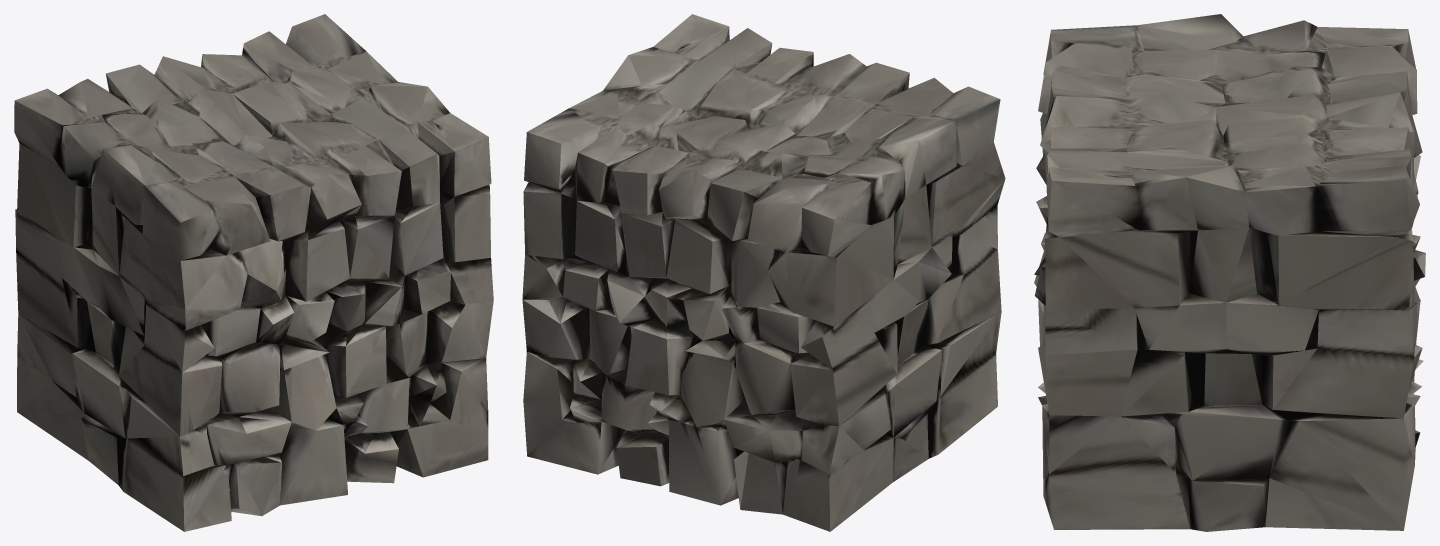
The model's file is base-balanced.glb.
3 views of the same model, side by side, from view 1: azimuth 30°, elevation 25°; view 2: azimuth 150°, elevation 25°; view 3: azimuth 270°, elevation 25° (orthographic). The views are drawn at different scales.
Visible parts, largest first — view 1: base-balanced; view 2: base-balanced; view 3: base-balanced.
Part boxes in pixels (x1,y1,x2,y2): base-balanced: (14, 14, 493, 531); base-balanced: (522, 14, 1005, 531); base-balanced: (1034, 14, 1425, 531).
Size of the model in its own units: 1 by 1 by 1.
1 material, 1 textured.
